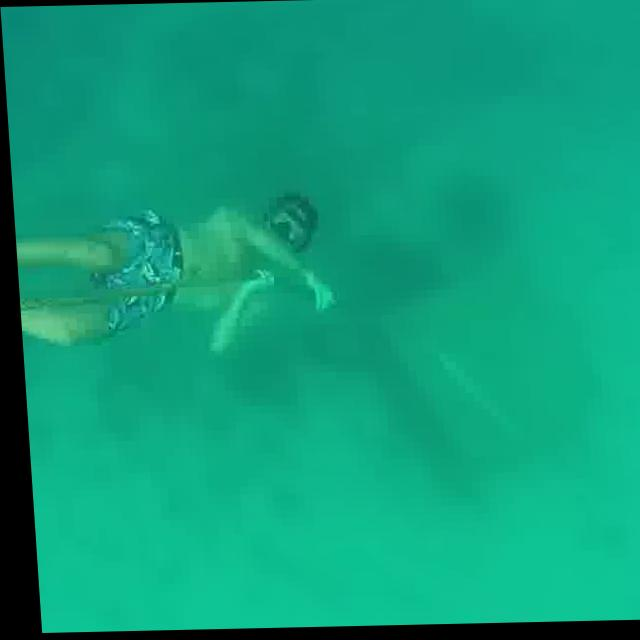human: (10, 181, 339, 373)
